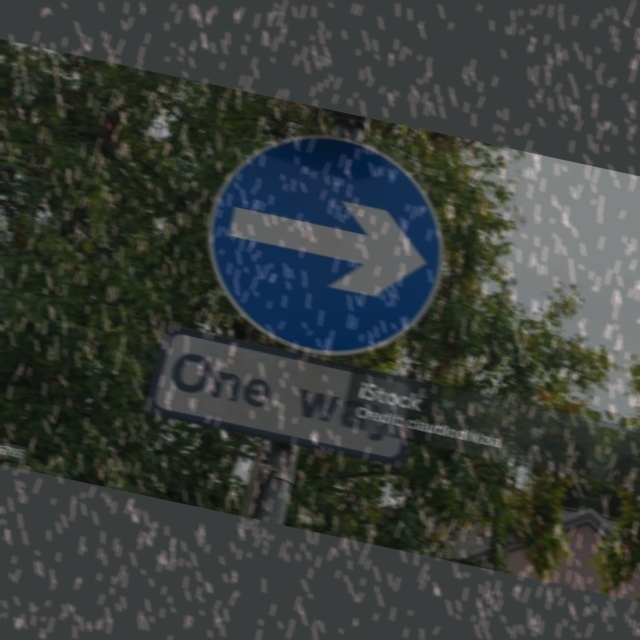Compulsory_Turn_Right: (186, 112, 468, 377)
